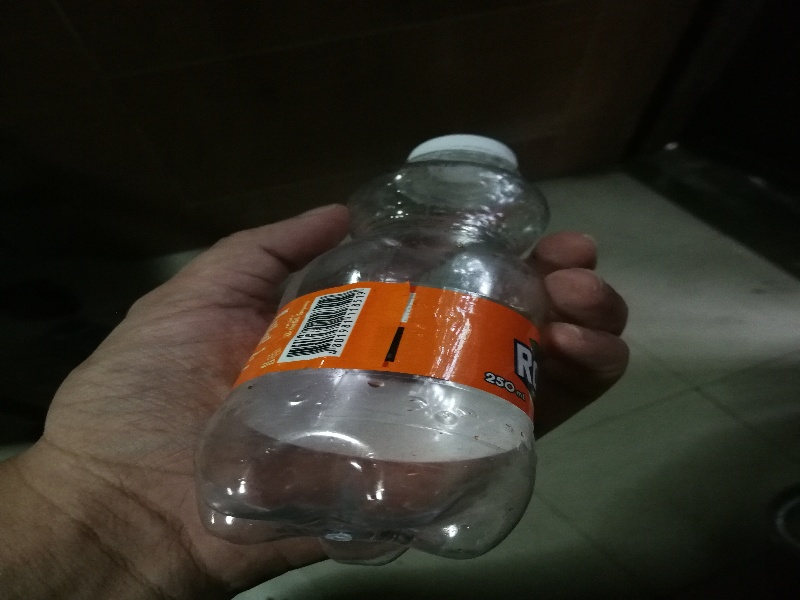PET #1: (197, 123, 555, 567)
